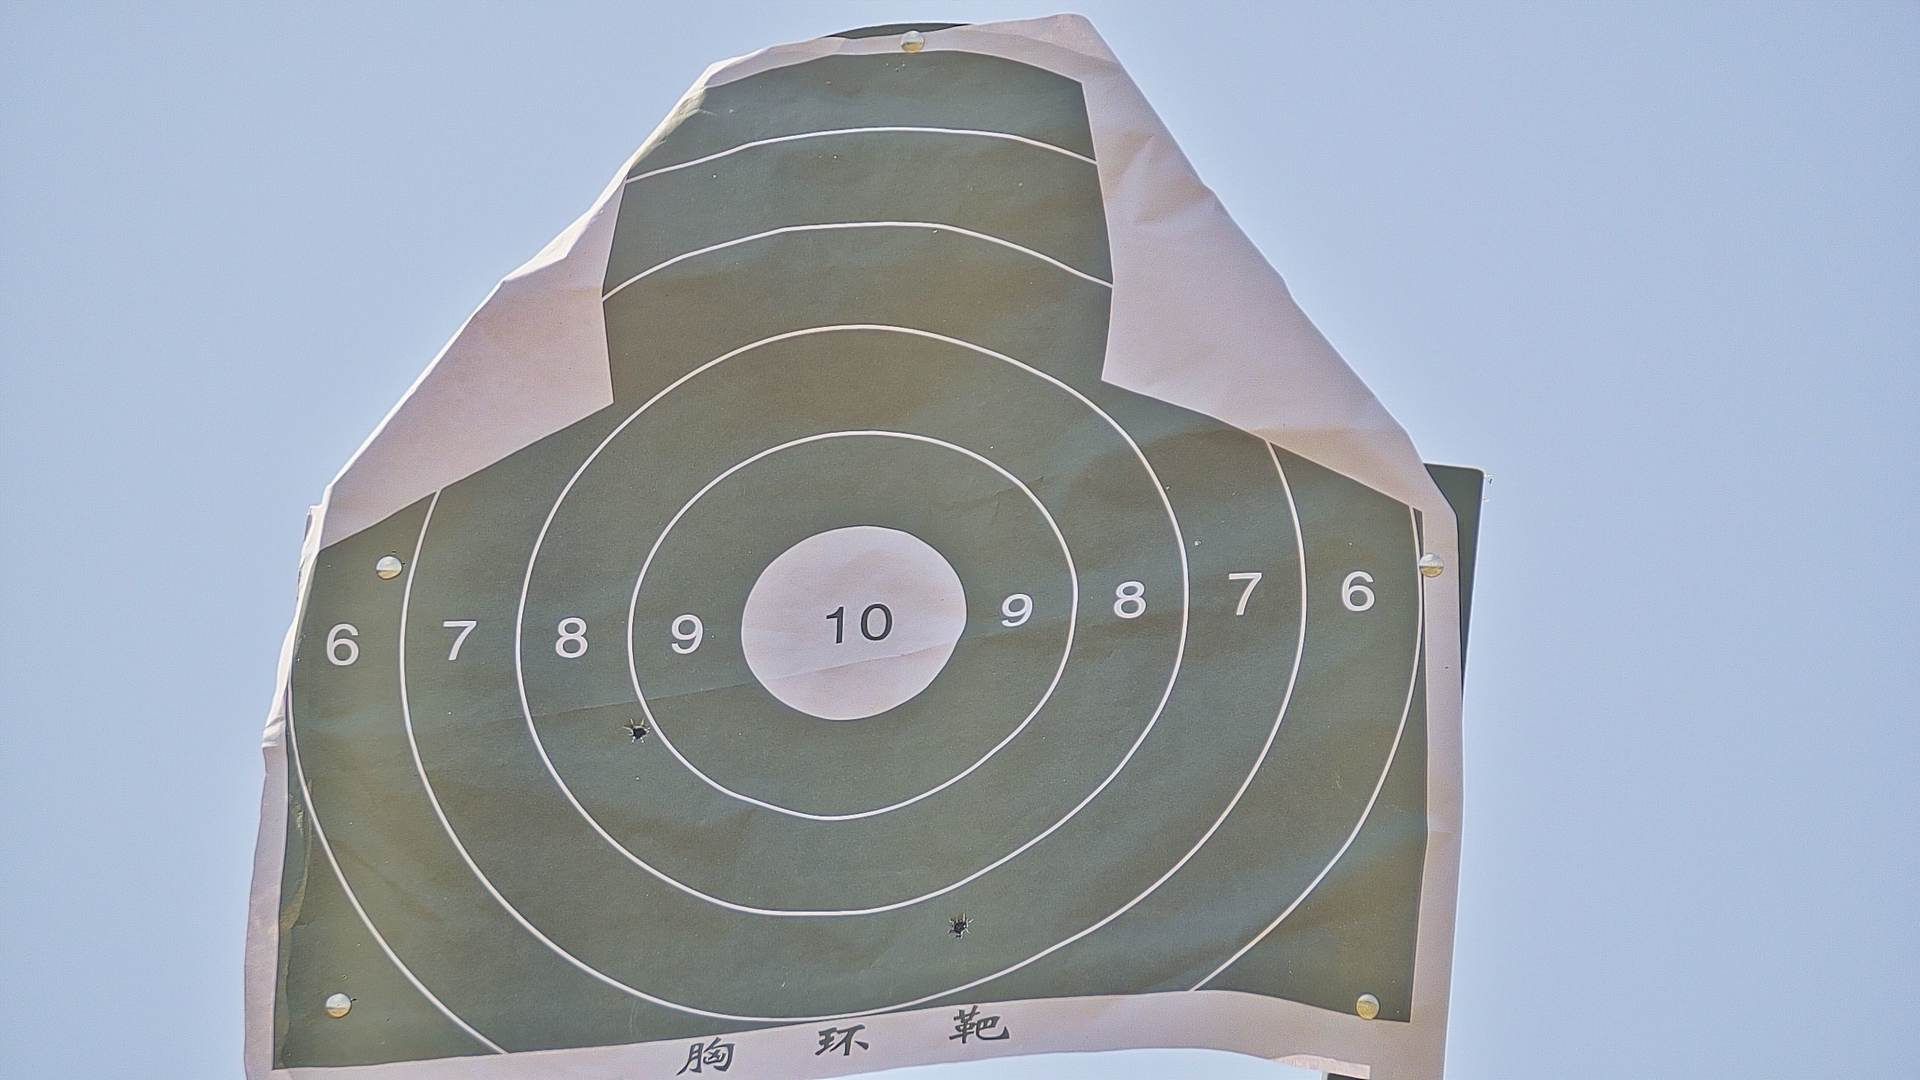hole: (951, 918, 968, 936), (630, 727, 647, 741)
kernel: (851, 620, 855, 628)
target: (273, 45, 1415, 1067)
ten: (738, 524, 972, 720)
